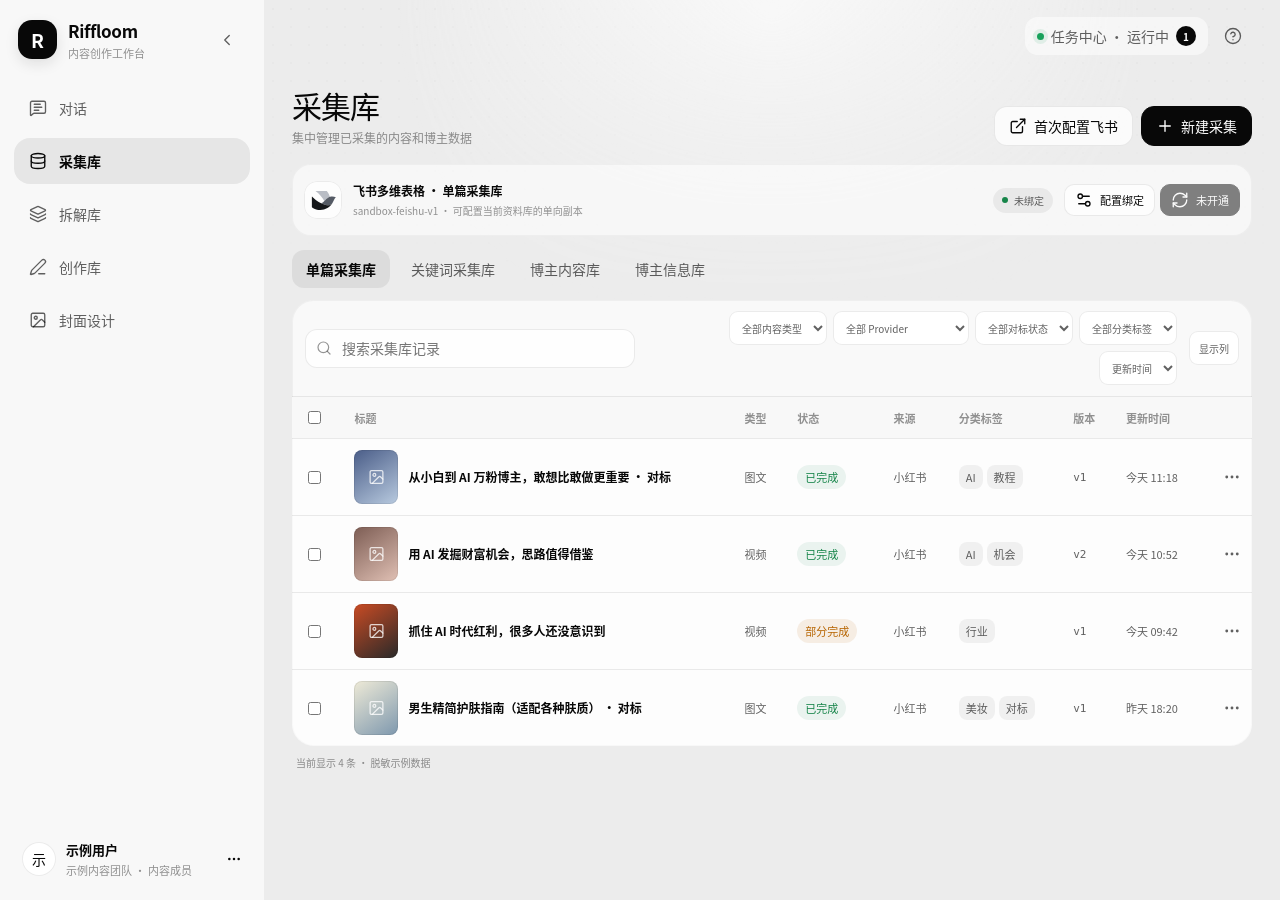
Riffloom 工作台 › 采集库支持筛选、全选当前结果和批量工具栏
Expected: the button "关键词采集库" is shown, [397,250,509,288]
Select "图文" in the dropdown named "内容类型筛选" at (778, 328), box [729,311,827,345]
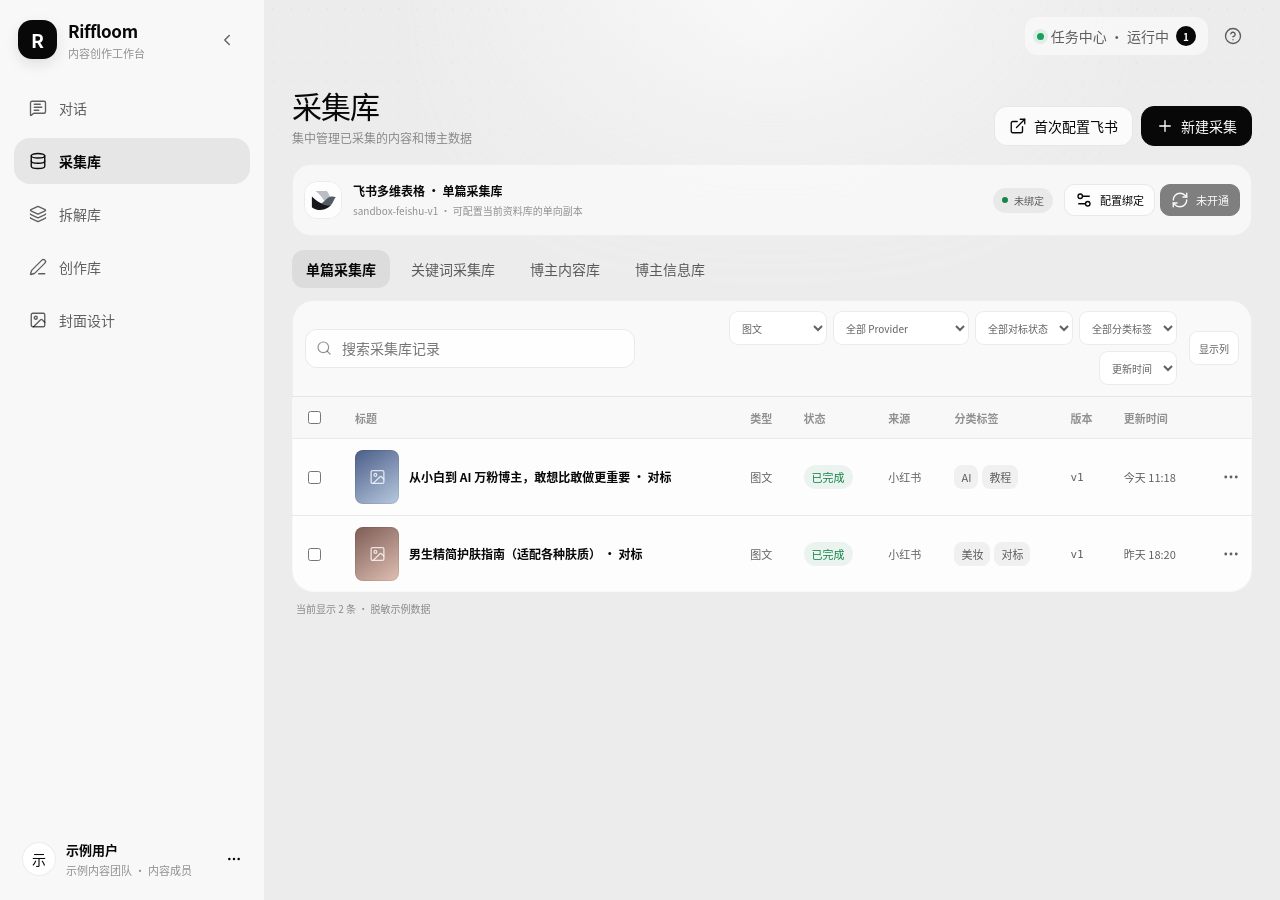
Expected: the text "从小白到 AI 万粉博主，敢想比敢做更重要 · 对标" is shown, [409,468,672,486]
Now the text "用 AI 发掘财富机会，思路值得借鉴" is gone
Click the checkbox named "全选当前结果".
click(314, 418)  # box [308,411,321,424]
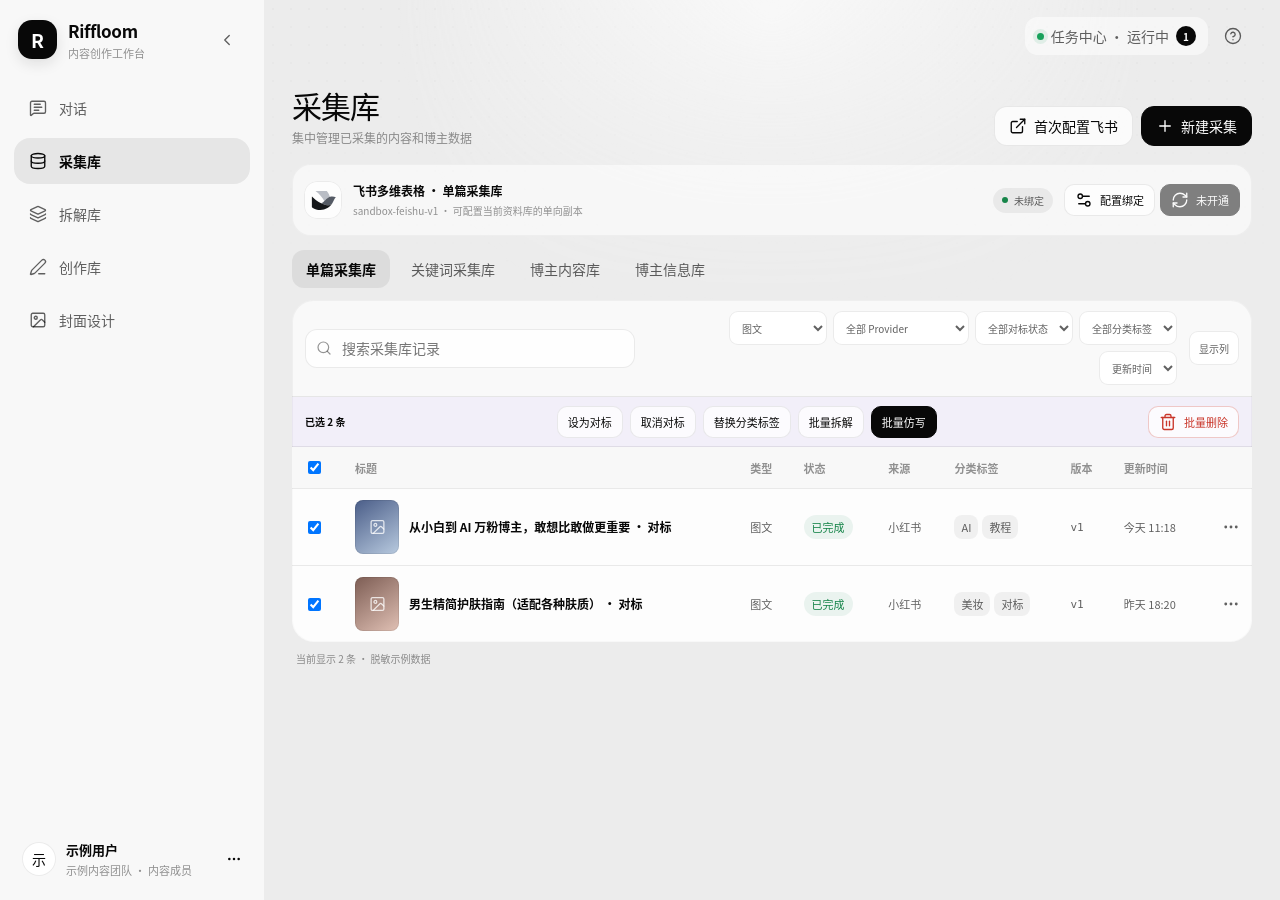
Now the element named "采集库批量操作" shows "已选 2 条", box [292,397,1252,447]
Now the button "批量拆解" is shown, box [798,406,864,438]
Now the button "批量仿写" is shown, box [871,406,937,438]
